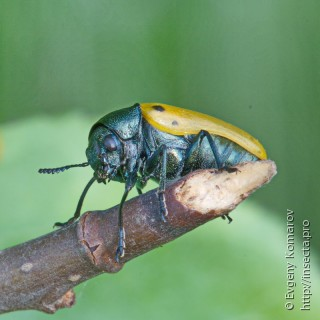Labidostomis_longimana: (37, 95, 275, 265)
